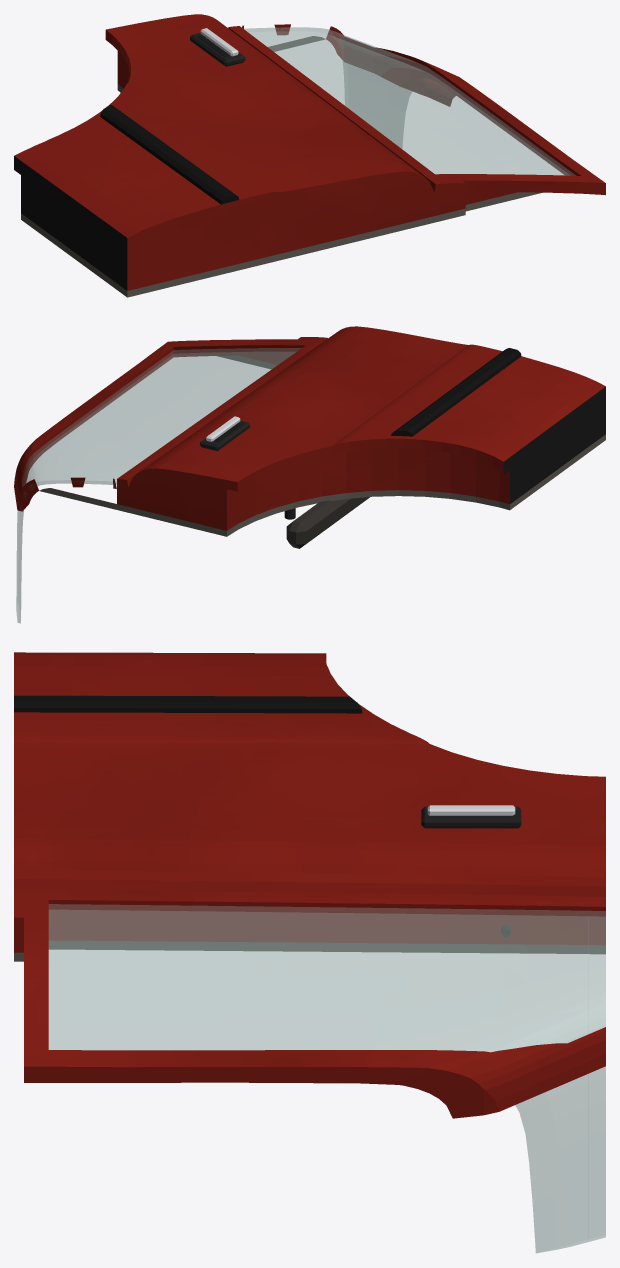
Rendered from porta_traseira_d.glb.
3 views of the same model, one above another, from view 1: azimuth 30°, elevation 25°; view 2: azimuth 150°, elevation 25°; view 3: azimuth 270°, elevation 25° (orthographic). The views are drawn at different scales.
Visible parts, largest first — view 1: porta_traseira_d_pintura, porta_traseira_d_vidro, porta_traseira_d_chassi, porta_traseira_d_forro_porta, porta_traseira_d_borracha, porta_traseira_d_plastico_preto; view 2: porta_traseira_d_pintura, porta_traseira_d_vidro, porta_traseira_d_chassi, porta_traseira_d_forro_porta, porta_traseira_d_borracha, porta_traseira_d_vinil, porta_traseira_d_plastico_preto; view 3: porta_traseira_d_pintura, porta_traseira_d_vidro, porta_traseira_d_borracha, porta_traseira_d_forro_porta, porta_traseira_d_plastico_preto, porta_traseira_d_cromado.
Boxes of the visible parts, box(x1,y1,x2,y2) form: porta_traseira_d_pintura: box(14, 14, 605, 290); porta_traseira_d_vidro: box(244, 27, 575, 175); porta_traseira_d_chassi: box(14, 35, 229, 290); porta_traseira_d_forro_porta: box(21, 36, 542, 297); porta_traseira_d_borracha: box(100, 105, 239, 204); porta_traseira_d_plastico_preto: box(190, 32, 245, 66); porta_traseira_d_pintura: box(14, 326, 605, 530); porta_traseira_d_vidro: box(16, 348, 301, 623); porta_traseira_d_chassi: box(213, 386, 605, 503); porta_traseira_d_forro_porta: box(39, 355, 605, 536); porta_traseira_d_borracha: box(391, 348, 521, 436); porta_traseira_d_vinil: box(286, 497, 369, 548); porta_traseira_d_plastico_preto: box(200, 420, 295, 519); porta_traseira_d_pintura: box(14, 652, 605, 1118); porta_traseira_d_vidro: box(48, 904, 605, 1253); porta_traseira_d_borracha: box(14, 695, 362, 713); porta_traseira_d_forro_porta: box(14, 940, 605, 961); porta_traseira_d_plastico_preto: box(421, 806, 521, 936); porta_traseira_d_cromado: box(427, 805, 515, 815).
Bounding box in the file's own units: 0.997 × 0.4504 × 0.77.
9 materials, 1 textured.
